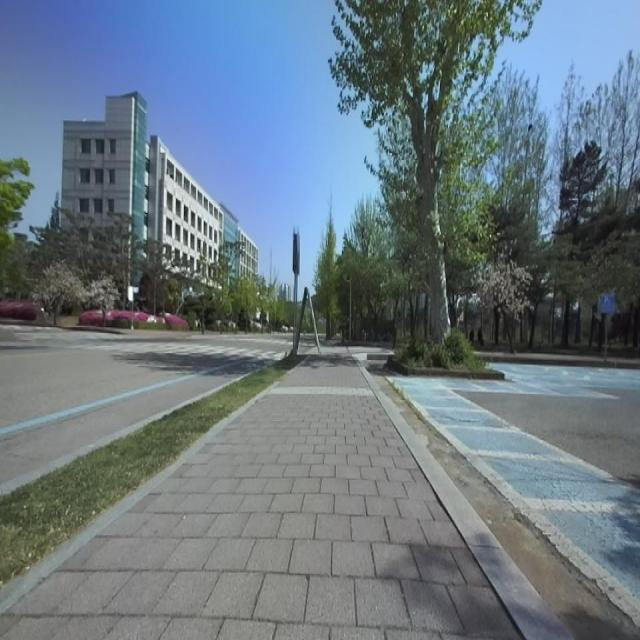sidewalk: (0, 352, 519, 639), (0, 389, 271, 616), (359, 364, 573, 640)
